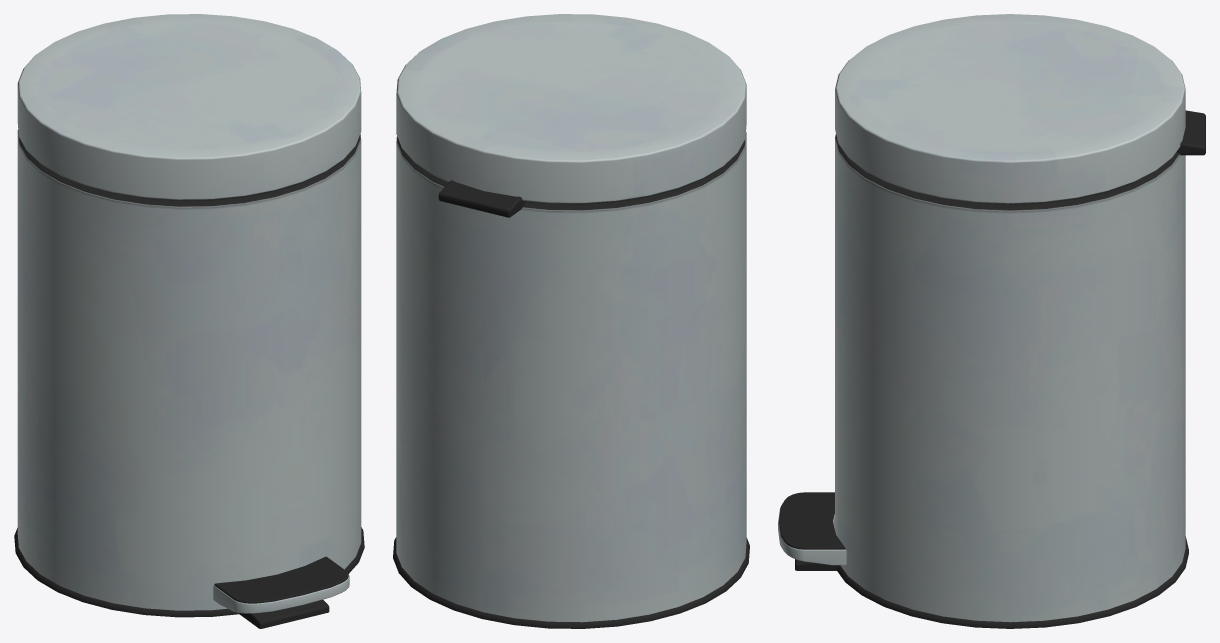
The model's file is trash_can.glb.
3 renders of one model, left to right at view 1: azimuth 30°, elevation 25°; view 2: azimuth 150°, elevation 25°; view 3: azimuth 270°, elevation 25°, orthographic.
Parts seen in each view (by area): view 1: TrashCan_0; view 2: TrashCan_0; view 3: TrashCan_0.
Boxes of the visible parts, bbox=[...] form: TrashCan_0: bbox=[14, 14, 364, 628]; TrashCan_0: bbox=[393, 14, 749, 628]; TrashCan_0: bbox=[778, 14, 1205, 628].
Size of the model in its own units: 1.95 by 2.8 by 2.33.
1 material, 1 textured.
